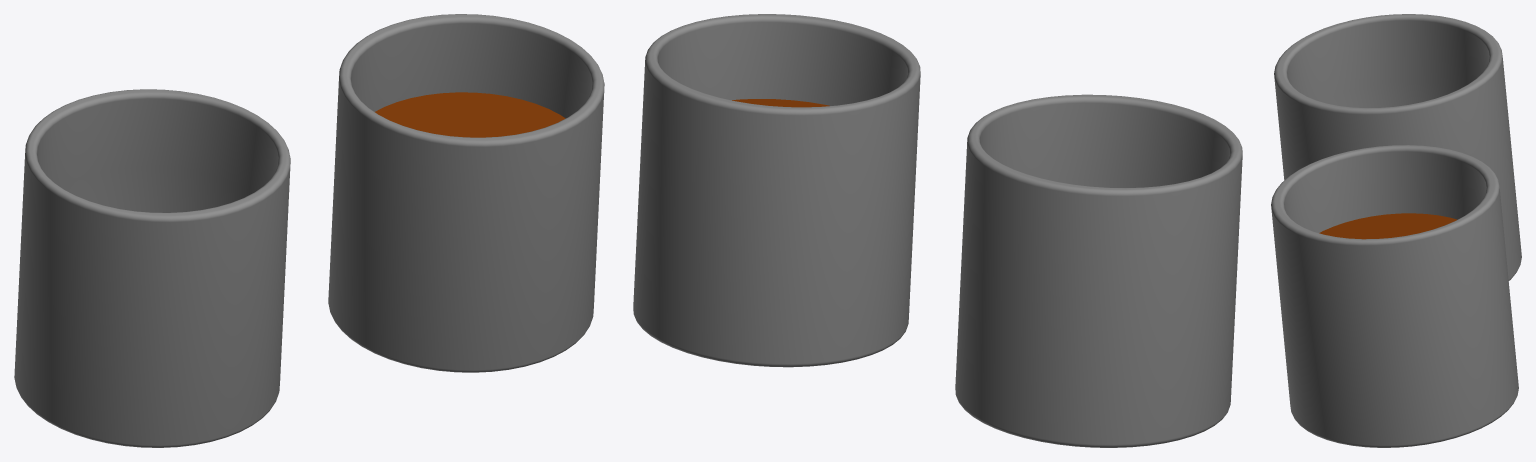
File: glass.obj
3 views of the same model, side by side, from view 1: azimuth 30°, elevation 25°; view 2: azimuth 150°, elevation 25°; view 3: azimuth 270°, elevation 25° (orthographic). The views are drawn at different scales.
Parts seen in each view (by area): view 1: Object_3.002, Object_2.007; view 2: Object_3.002; view 3: Object_3.002, Object_2.007.
Boxes of the visible parts, x1,y1,x2,y2 form: Object_3.002: (14,14,604,447); Object_2.007: (375,92,565,137); Object_3.002: (633,14,1242,447); Object_3.002: (1271,14,1521,447); Object_2.007: (1319,213,1456,239).
Size of the model in its own units: 0.8305 by 0.3813 by 0.3854.
Materials: 2 (2 with a texture image).
